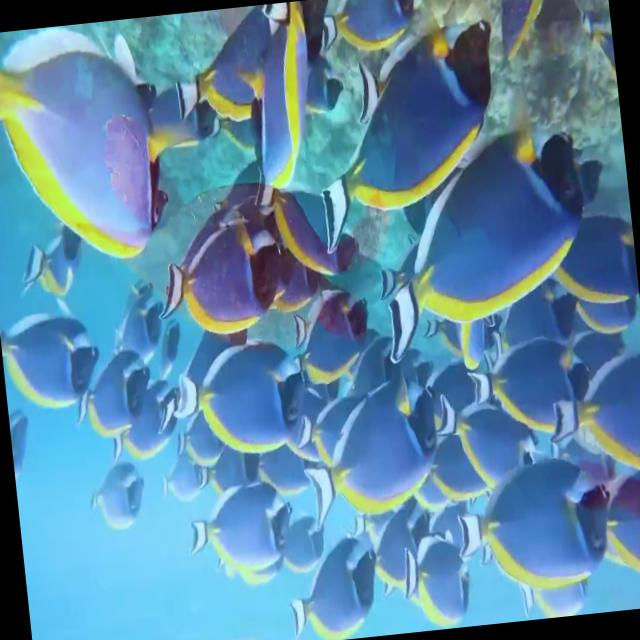fish: (369, 114, 602, 366), (302, 9, 520, 276), (0, 16, 173, 287), (444, 442, 616, 608), (296, 358, 452, 518), (238, 0, 334, 220), (165, 324, 312, 462), (134, 213, 292, 335), (459, 326, 592, 444), (543, 335, 640, 479), (170, 4, 279, 131), (281, 521, 383, 640), (536, 209, 640, 325), (293, 276, 388, 396), (183, 483, 298, 578), (0, 309, 106, 411), (65, 338, 157, 448), (398, 540, 472, 632), (594, 452, 640, 598), (84, 458, 152, 548), (121, 373, 183, 460), (275, 506, 330, 576), (7, 399, 40, 492)
